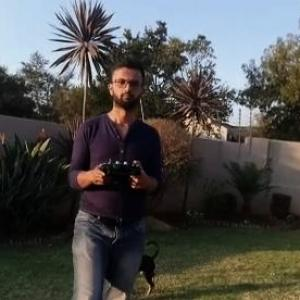follow: (62, 55, 161, 299)
